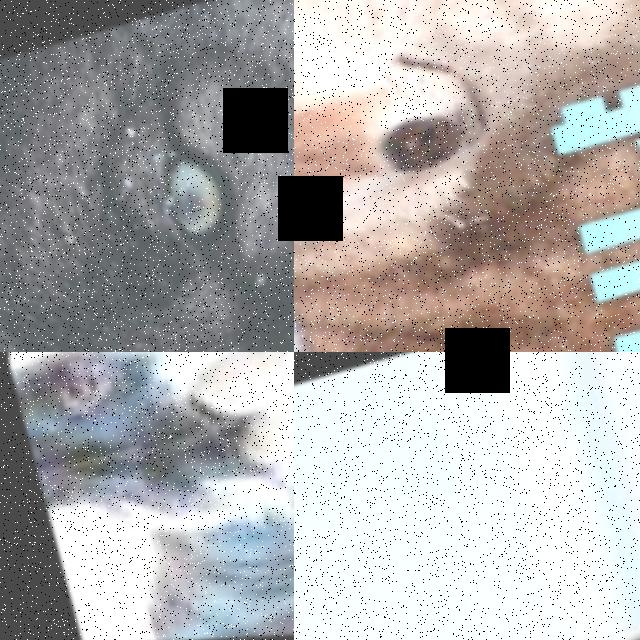dog: (0, 352, 294, 640), (294, 471, 640, 640)
wolf: (294, 0, 640, 352), (0, 0, 294, 352)
